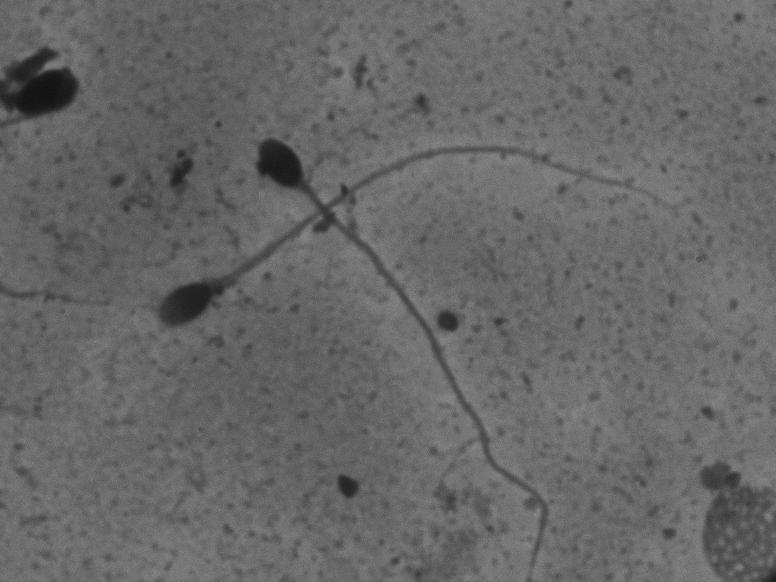Normal: (255, 134, 564, 573), (145, 131, 692, 340)
